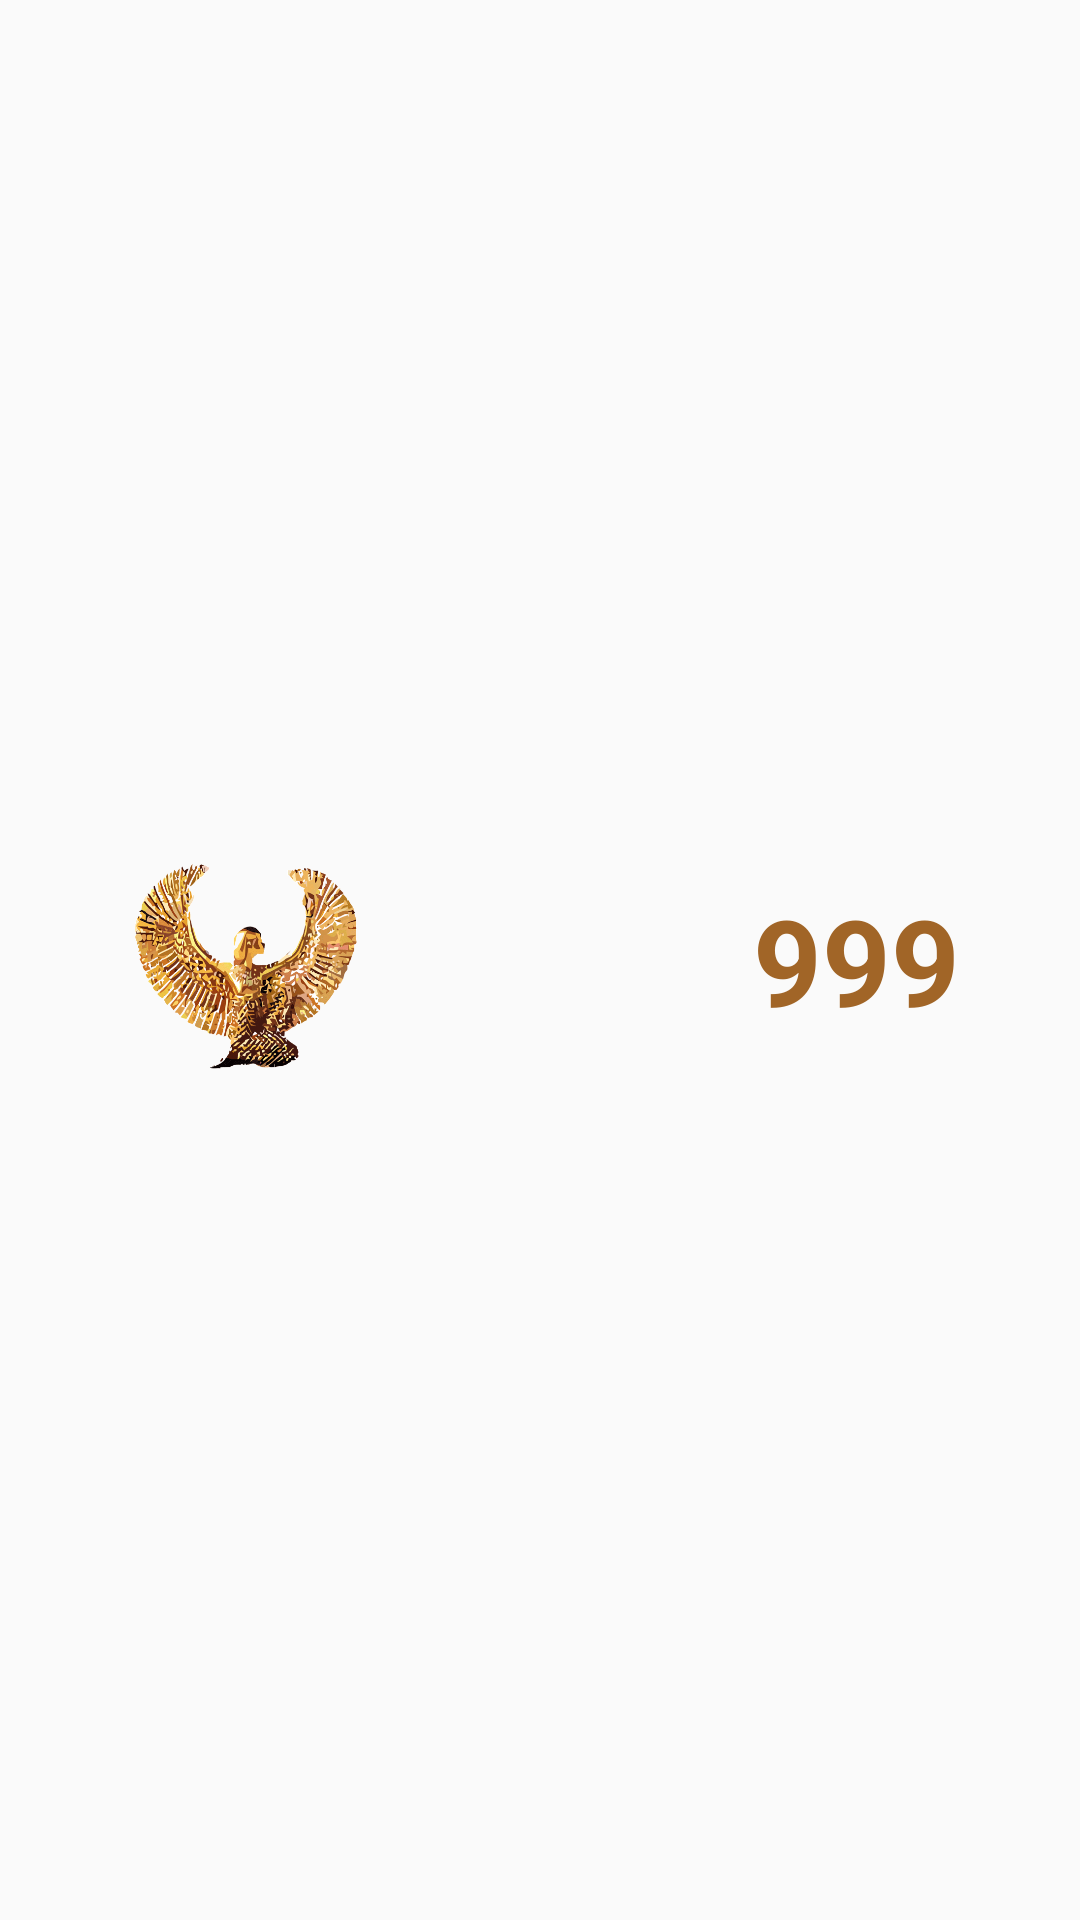

Locate icon controls on the screen. Image size 1080*1920, boxes as (x1, y1, x2, y2).
gold: (135, 864, 357, 1069)
